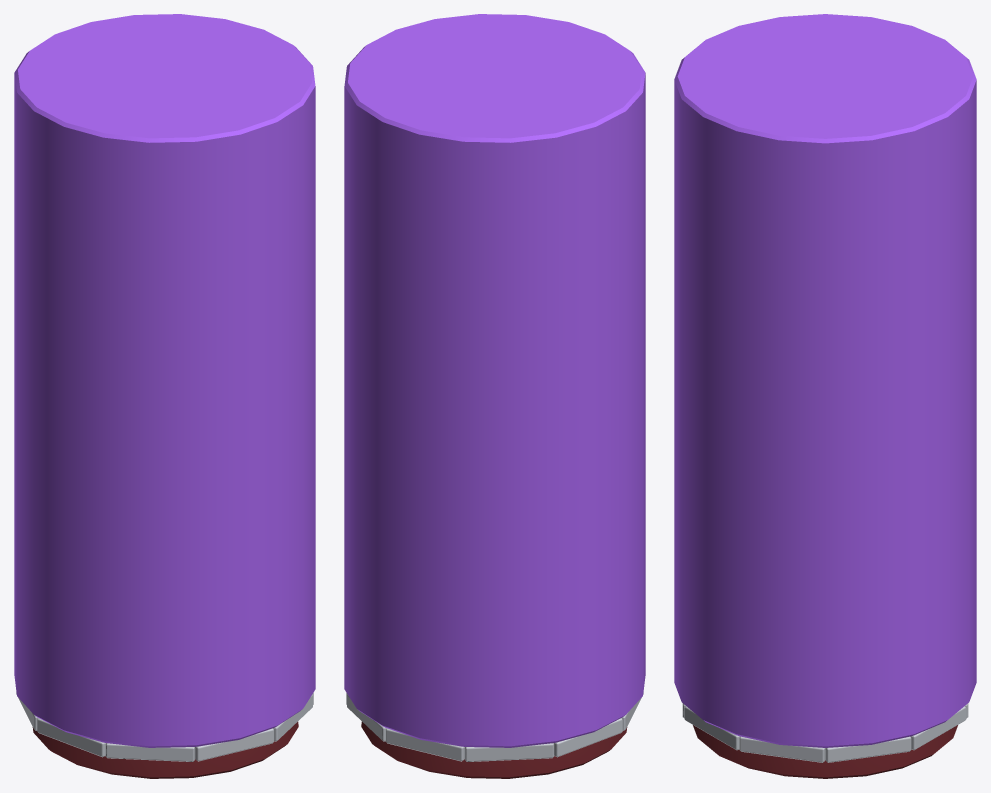
Rendered from phase_beacon.glb.
The picture shows the model from 3 angles, left to right: view 1: azimuth 30°, elevation 25°; view 2: azimuth 150°, elevation 25°; view 3: azimuth 270°, elevation 25°; orthographic projection.
Visible parts, largest first — view 1: phase_beam, disc, rim_3, rim_2, rim_4; view 2: phase_beam, disc, rim_6, rim_7, rim_5; view 3: phase_beam, disc, rim_0, rim_9, rim_1, rim_8.
Boxes of the visible parts, box(x1,y1,x2,y2) form: phase_beam: box(14, 14, 315, 747); disc: box(32, 722, 298, 778); rim_3: box(105, 743, 195, 761); rim_2: box(195, 728, 274, 761); rim_4: box(37, 718, 105, 757); phase_beam: box(344, 14, 645, 747); disc: box(361, 722, 627, 778); rim_6: box(464, 743, 554, 761); rim_7: box(385, 728, 464, 761); rim_5: box(554, 718, 622, 757); phase_beam: box(674, 14, 976, 747); disc: box(693, 725, 957, 778); rim_0: box(739, 736, 825, 762); rim_9: box(825, 736, 911, 762); rim_1: box(684, 706, 740, 750); rim_8: box(910, 706, 966, 750).
Size of the model in its own units: 0.36 by 0.85 by 0.36.
